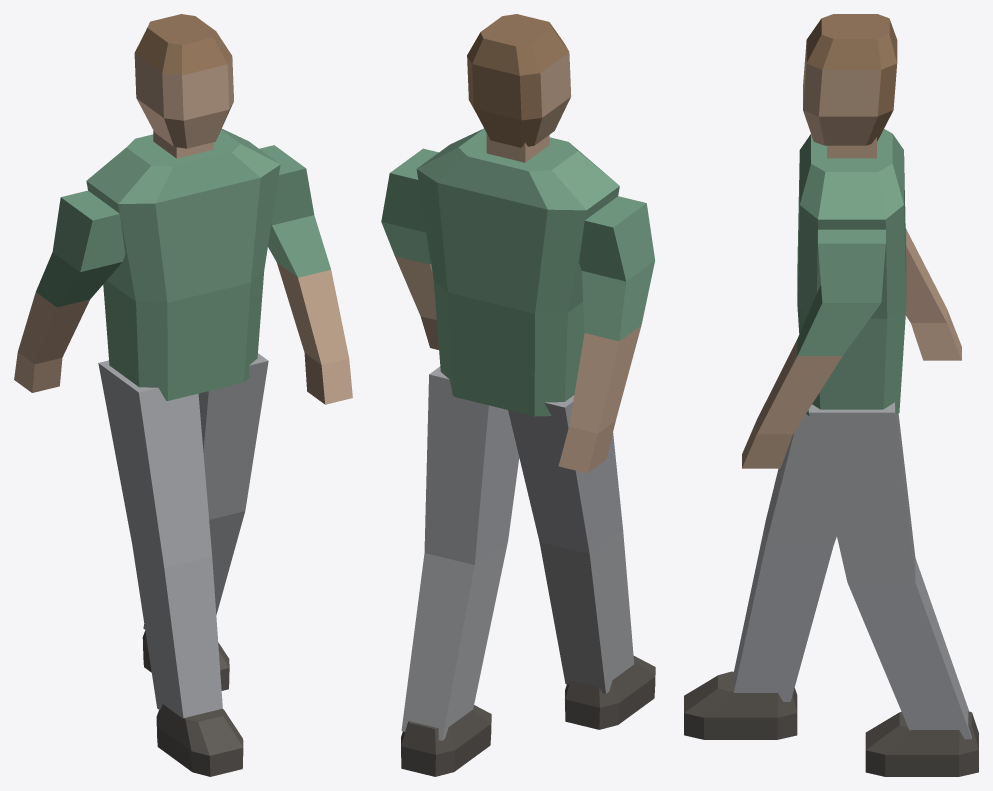
The model's file is pedestrian_5_right.fbx.
3 renders of one model, left to right at view 1: azimuth 30°, elevation 25°; view 2: azimuth 150°, elevation 25°; view 3: azimuth 270°, elevation 25°, orthographic. The views are drawn at different scales.
Visible parts, largest first — view 1: pedestrian_5_right; view 2: pedestrian_5_right; view 3: pedestrian_5_right.
Part boxes in pixels (x1,y1,x2,y2): pedestrian_5_right: (14, 14, 352, 776); pedestrian_5_right: (381, 14, 655, 776); pedestrian_5_right: (684, 14, 978, 776).
Bounding box in the file's own units: 0.662 × 1.75 × 0.65.
